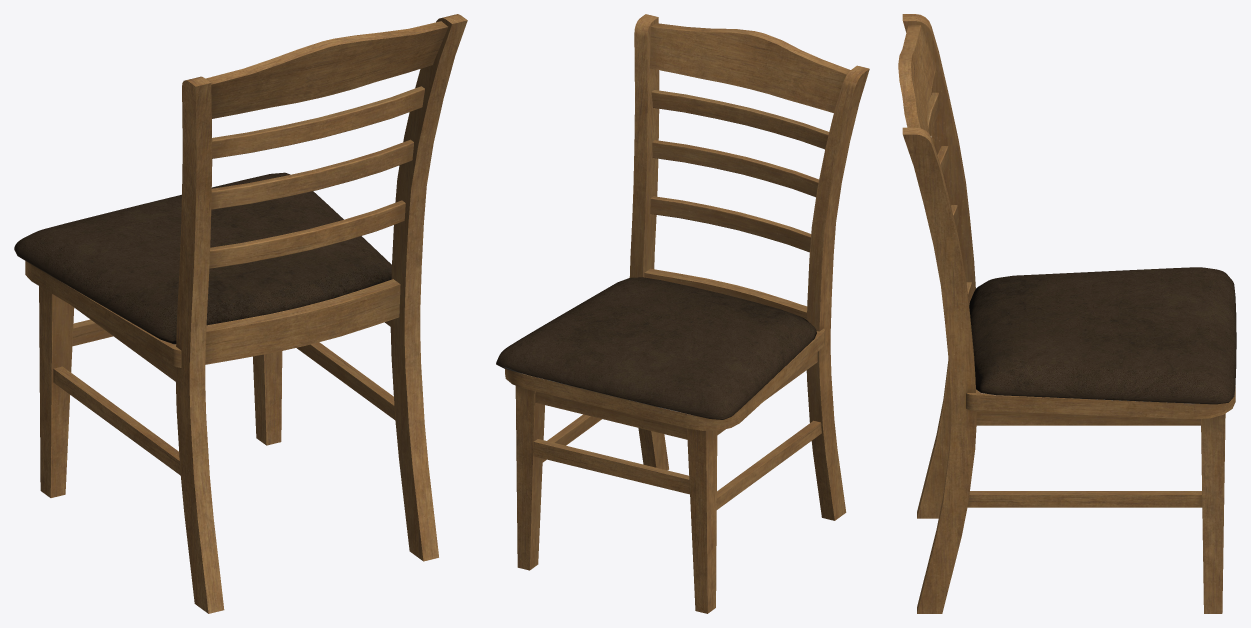
The model's file is cafe_chair.glb.
3 views of the same model, side by side, from view 1: azimuth 30°, elevation 25°; view 2: azimuth 150°, elevation 25°; view 3: azimuth 270°, elevation 25° (orthographic). The views are drawn at different scales.
Parts seen in each view (by area): view 1: pCube32, pCube31; view 2: pCube32, pCube31; view 3: pCube32, pCube31.
Boxes of the visible parts, x1,y1,x2,y2 form: pCube32: (25,14,467,613); pCube31: (14,172,391,344); pCube32: (505,14,869,613); pCube31: (496,277,816,419); pCube32: (898,14,1235,613); pCube31: (969,267,1236,404).
Bounding box in the file's own units: 6.09 × 11.24 × 6.92.
2 materials, 2 textured.
